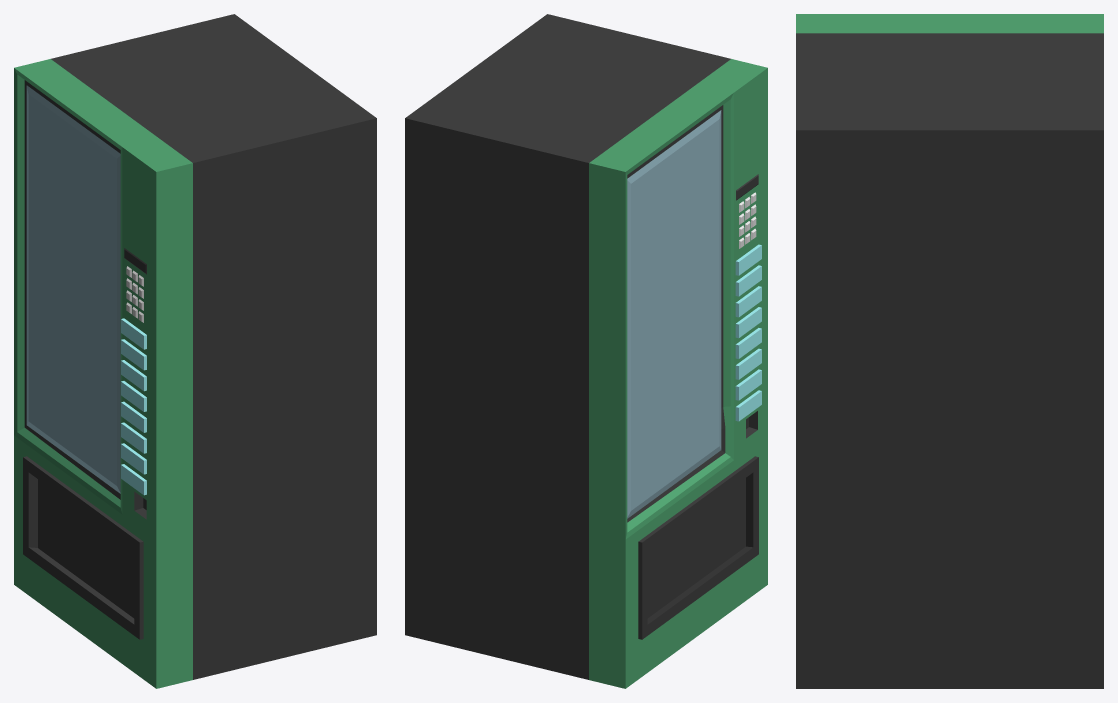
The model's file is vending_machine.fbx.
3 renders of one model, left to right at view 1: azimuth 30°, elevation 25°; view 2: azimuth 150°, elevation 25°; view 3: azimuth 270°, elevation 25°, orthographic. The views are drawn at different scales.
Parts seen in each view (by area): view 1: vending_machine_export; view 2: vending_machine_export; view 3: vending_machine_export.
Boxes of the visible parts, x1=… form: vending_machine_export: x1=14, y1=14, x2=376, y2=688; vending_machine_export: x1=405, y1=14, x2=767, y2=688; vending_machine_export: x1=796, y1=14, x2=1103, y2=688.
Size of the model in its own units: 127 by 279 by 140.
